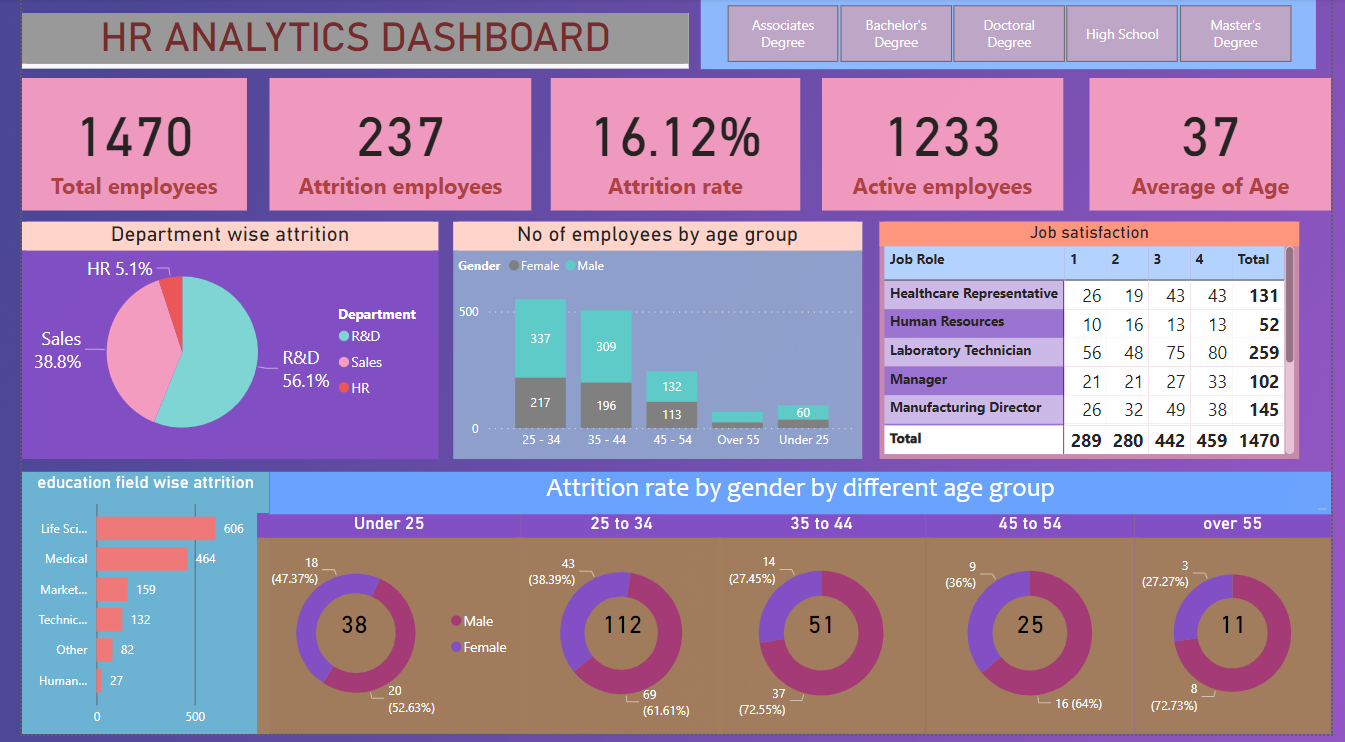

The dashboard page shown, as its layout file describes it:
{"tool":"powerbi","page":{"name":"Page 1","canvas":[1280,720],"ordinal":0},"visuals":[{"type":"card","fields":{"Values":["Sum(HR data.Employee Count)"]},"box":[0,77.7,219.9,130],"z":0},{"type":"card","fields":{"Values":["Sum(HR data.attrition employees count)"]},"box":[241.7,77.7,256.3,130],"z":1000},{"type":"card","fields":{"Values":["HR data.Attrition rate"]},"box":[517.4,77.7,244.1,130],"z":2000},{"type":"card","fields":{"Values":["HR data.Active employees"]},"box":[782.2,77.7,235.6,130],"z":3000},{"type":"card","fields":{"Values":["Avg(HR data.Age)"]},"box":[1043.4,77.7,236.9,130],"z":4000},{"type":"pieChart","title":"Department wise attrition","fields":{"Category":["HR data.Department"],"Y":["Sum(HR data.attrition employees count)"]},"box":[0,218.6,406.9,232],"z":5000},{"type":"columnChart","title":"No of employees by age group","fields":{"Category":["HR data.CF_age band"],"Y":["Sum(HR data.Employee Count)"],"Series":["HR data.Gender"]},"box":[421.5,218.6,399.6,232],"z":6000},{"type":"pivotTable","title":"Job satisfaction","fields":{"Rows":["HR data.Job Role"],"Columns":["HR data.Job Satisfaction"],"Values":["Sum(HR data.Employee Count)"]},"box":[838.1,218.6,410.6,232],"z":7000},{"type":"barChart","title":"education field wise attrition","fields":{"Category":["HR data.Education Field"],"Y":["CountNonNull(HR data.attrition employees count)"]},"box":[0,462.8,241.7,257.5],"z":8000},{"type":"donutChart","title":"Under 25","fields":{"Category":["HR data.Gender"],"Y":["Sum(HR data.attrition employees count)"],"Series":["HR data.CF_age band"]},"box":[229.6,504.1,258.7,216.2],"z":8001},{"type":"donutChart","title":"over 55","fields":{"Category":["HR data.Gender"],"Y":["Sum(HR data.attrition employees count)"],"Series":["HR data.CF_age band"]},"box":[1088.3,504.1,191.9,216.2],"z":8002},{"type":"donutChart","title":"45 to 54","fields":{"Category":["HR data.Gender"],"Y":["Sum(HR data.attrition employees count)"],"Series":["HR data.CF_age band"]},"box":[884.3,504.1,204.1,216.2],"z":8003},{"type":"donutChart","title":"25 to 34","fields":{"Category":["HR data.Gender"],"Y":["Sum(HR data.attrition employees count)"],"Series":["HR data.CF_age band"]},"box":[488.3,504.1,196.8,216.2],"z":8004},{"type":"donutChart","title":"35 to 44","fields":{"Category":["HR data.Gender"],"Y":["Sum(HR data.attrition employees count)"],"Series":["HR data.CF_age band"]},"box":[680.2,504.1,204.1,216.2],"z":8005},{"type":"textbox","title":"Attrition rate by gender by different age group","box":[241.7,462.8,1038.5,41.3],"z":8006},{"type":"card","fields":{"Values":["Sum(HR data.attrition employees count)"]},"box":[302.4,595.2,46.2,34],"z":8007},{"type":"card","fields":{"Values":["Sum(HR data.attrition employees count)"]},"box":[1161.2,595.2,46.2,34],"z":8008},{"type":"card","fields":{"Values":["Sum(HR data.attrition employees count)"]},"box":[963.2,595.2,46.2,34],"z":8009},{"type":"card","fields":{"Values":["Sum(HR data.attrition employees count)"]},"box":[757.9,595.2,47.4,34],"z":8010},{"type":"card","fields":{"Values":["Sum(HR data.attrition employees count)"]},"box":[552.7,595.2,69.2,34],"z":8011},{"type":"textbox","title":"HR ANALYTICS DASHBOARD","box":[0,14.6,652.3,54.7],"z":8012},{"type":"slicer","title":"eDUCAT","fields":{"Values":["HR data.Education"]},"box":[663.2,0,601.3,69.2],"z":8013}]}

Visuals, with their boxes in screenshot pixels (x1, y1, x2, y2), scaled from the page's 1280x720 canvas onto the 1345x742 screenshot:
card - Sum(HR data.Employee Count): bbox=[0, 80, 231, 214]
card - Sum(HR data.attrition employees count): bbox=[254, 80, 523, 214]
card - HR data.Attrition rate: bbox=[544, 80, 800, 214]
card - HR data.Active employees: bbox=[822, 80, 1069, 214]
card - Avg(HR data.Age): bbox=[1096, 80, 1344, 214]
"Department wise attrition" pieChart: bbox=[0, 225, 428, 464]
"No of employees by age group" columnChart: bbox=[443, 225, 863, 464]
"Job satisfaction" pivotTable: bbox=[881, 225, 1312, 464]
"education field wise attrition" barChart: bbox=[0, 477, 254, 741]
"Under 25" donutChart: bbox=[241, 520, 513, 741]
"over 55" donutChart: bbox=[1144, 520, 1344, 741]
"45 to 54" donutChart: bbox=[929, 520, 1144, 741]
"25 to 34" donutChart: bbox=[513, 520, 720, 741]
"35 to 44" donutChart: bbox=[715, 520, 929, 741]
"Attrition rate by gender by different age group" textbox: bbox=[254, 477, 1344, 520]
card - Sum(HR data.attrition employees count): bbox=[318, 613, 366, 648]
card - Sum(HR data.attrition employees count): bbox=[1220, 613, 1269, 648]
card - Sum(HR data.attrition employees count): bbox=[1012, 613, 1061, 648]
card - Sum(HR data.attrition employees count): bbox=[796, 613, 846, 648]
card - Sum(HR data.attrition employees count): bbox=[581, 613, 653, 648]
"HR ANALYTICS DASHBOARD" textbox: bbox=[0, 15, 685, 71]
"eDUCAT" slicer: bbox=[697, 0, 1329, 71]
